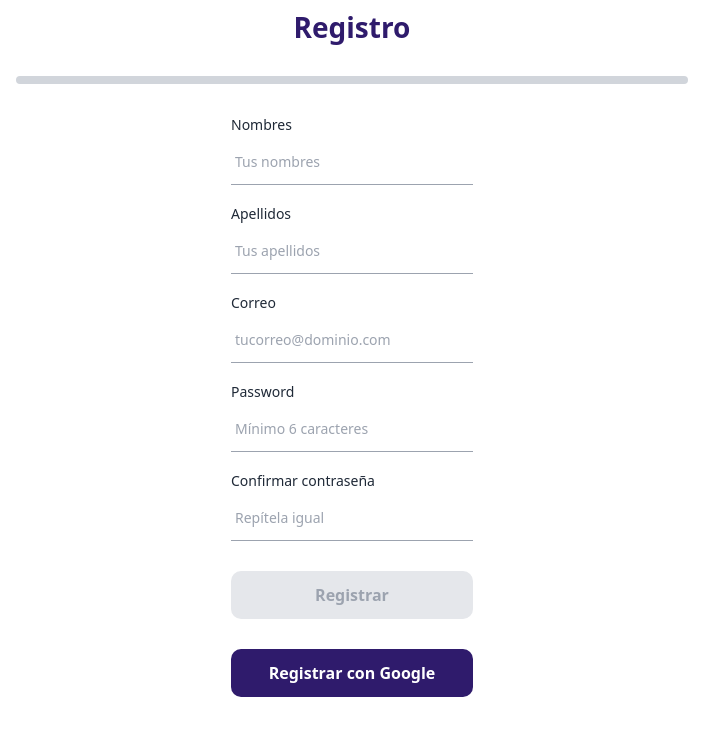
RegisterForm (TDD) - sin CI ni Teléfono y con Confirmar contraseña (solo frontend) › muestra error del servidor cuando la API responde 409/400 y re-habilita enviar
Type "Ana" into the field labelled "Tus nombres" at (352, 163), box [231,141,473,185]
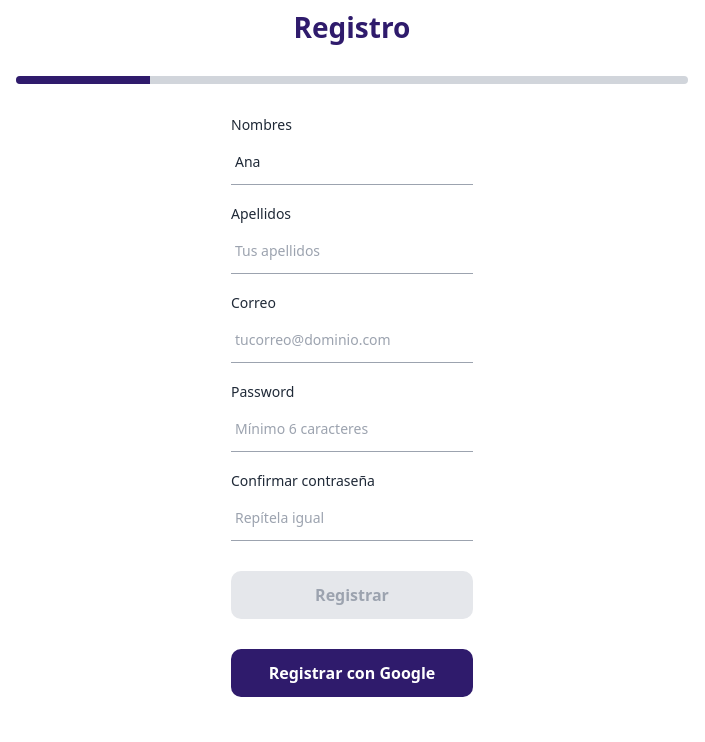
Type "Pérez" into the field labelled "Tus apellidos" at (352, 252), box [231,230,473,274]
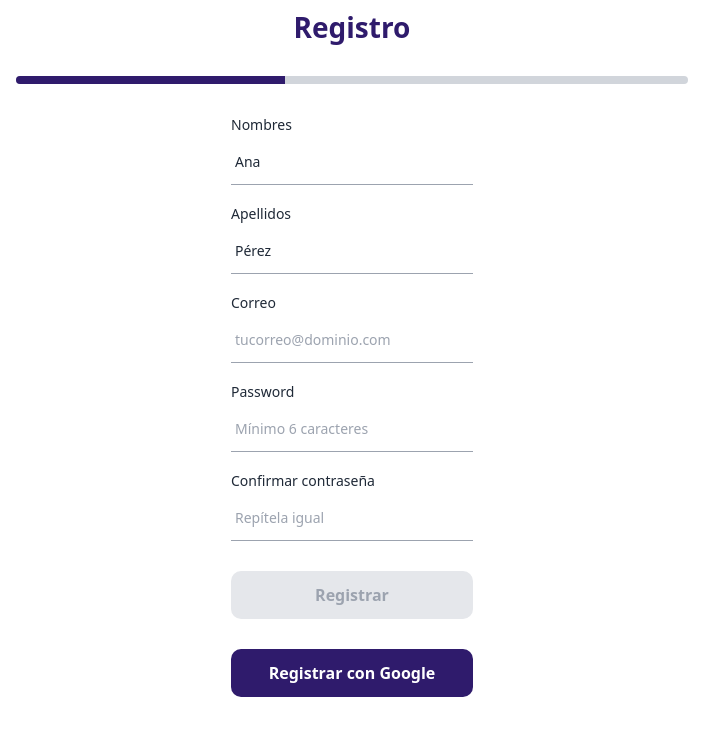
Type "ana@mail.com" into the field labelled "tucorreo@dominio.com" at (352, 341), box [231,319,473,363]
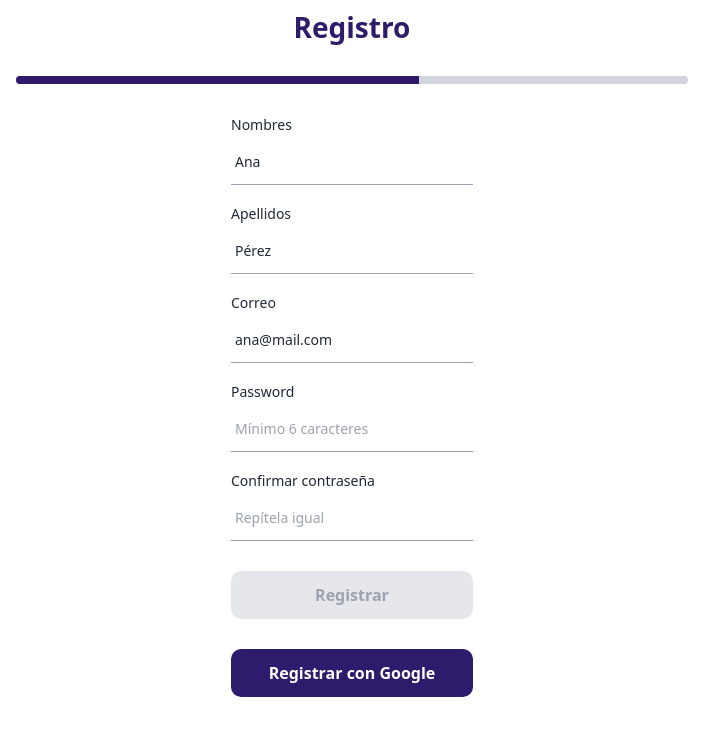
Type "secreto" into the password field named "password" at (352, 430), box [231,408,473,452]
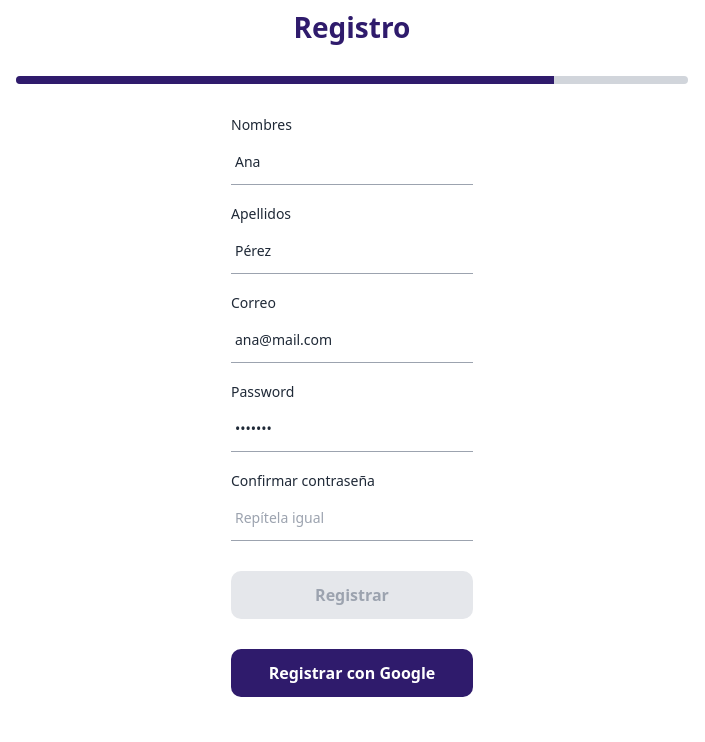
Type "secreto" into the password field labelled "Repítela igual" at (352, 519), box [231,497,473,541]
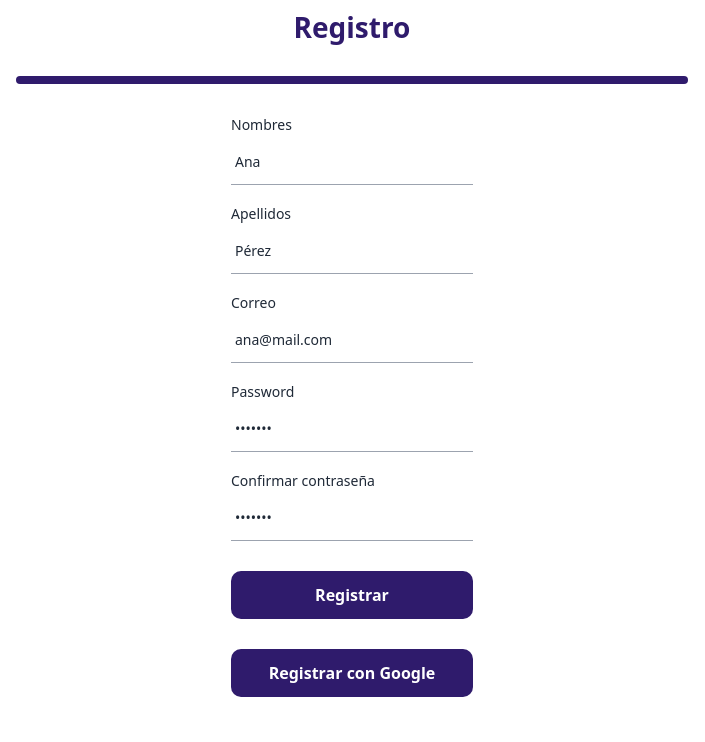
Click the button with test id "btn-registrar" at (352, 595), box [231,571,473,619]
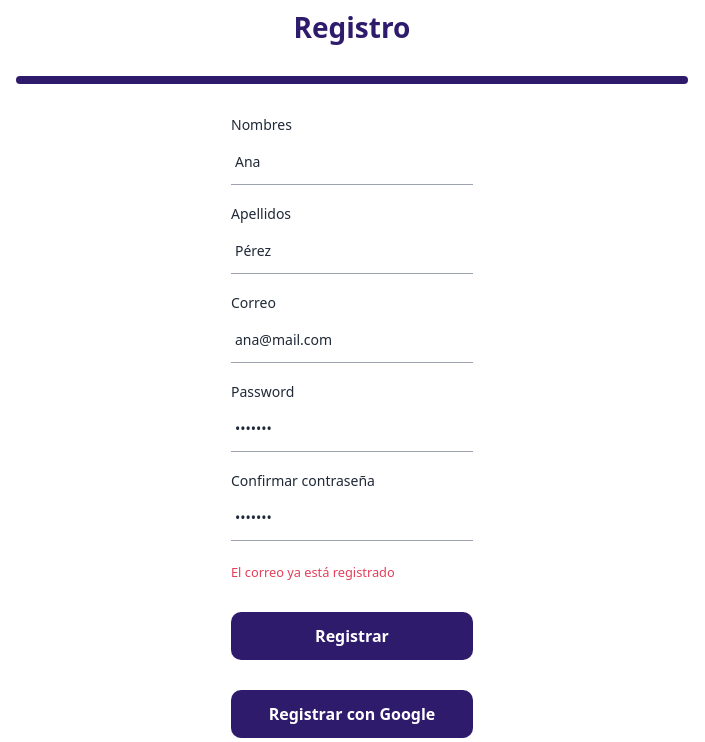
expect the button with test id "btn-registrar" is enabled: met, box [231,612,473,660]
expect the text "El correo ya está registrado" is shown: met, box [231,563,395,581]
